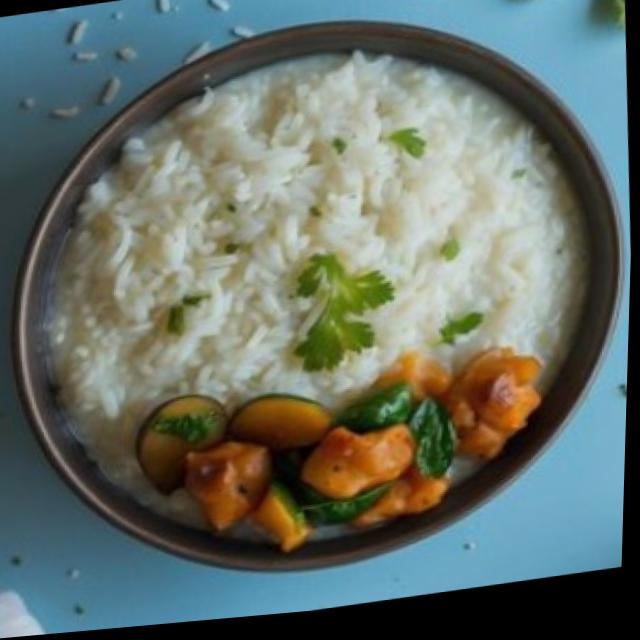CURD RICE: (36, 49, 586, 551)
